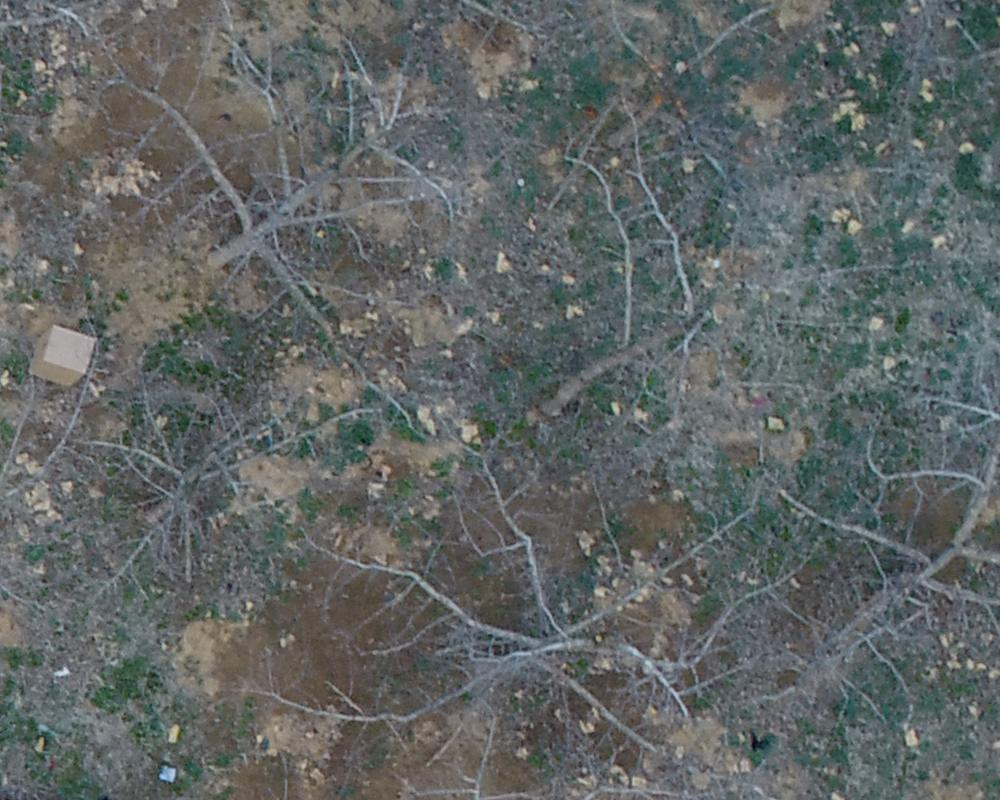apple: (309, 493, 736, 776), (119, 78, 463, 409), (499, 153, 759, 447), (769, 399, 990, 720), (69, 374, 339, 594)
